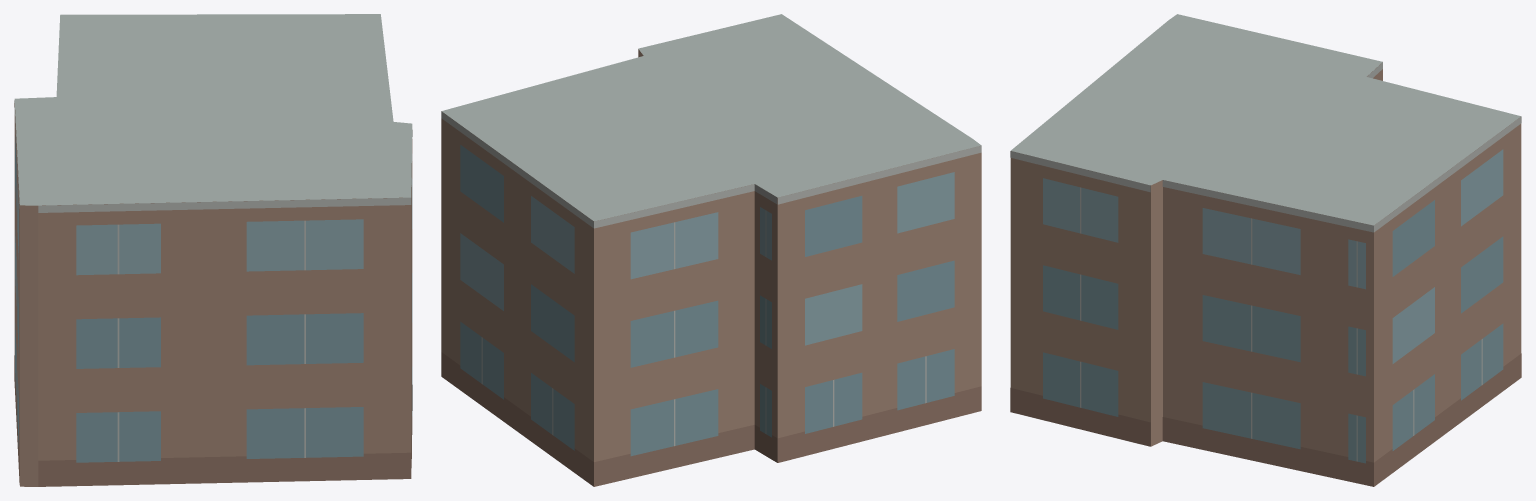
Rendered from survey-upis-32773228.glb.
3 views of the same model, side by side, from view 1: azimuth 30°, elevation 25°; view 2: azimuth 150°, elevation 25°; view 3: azimuth 270°, elevation 25° (orthographic). The views are drawn at different scales.
Parts seen in each view (by area): view 1: survey-upis-32773228.tmp; view 2: survey-upis-32773228.tmp; view 3: survey-upis-32773228.tmp.
Part boxes in pixels (x1,y1,x2,y2): survey-upis-32773228.tmp: [14, 14, 412, 486]; survey-upis-32773228.tmp: [441, 14, 981, 486]; survey-upis-32773228.tmp: [1010, 14, 1521, 486].
Bounding box in the file's own units: 15.9 × 9.15 × 16.23.
